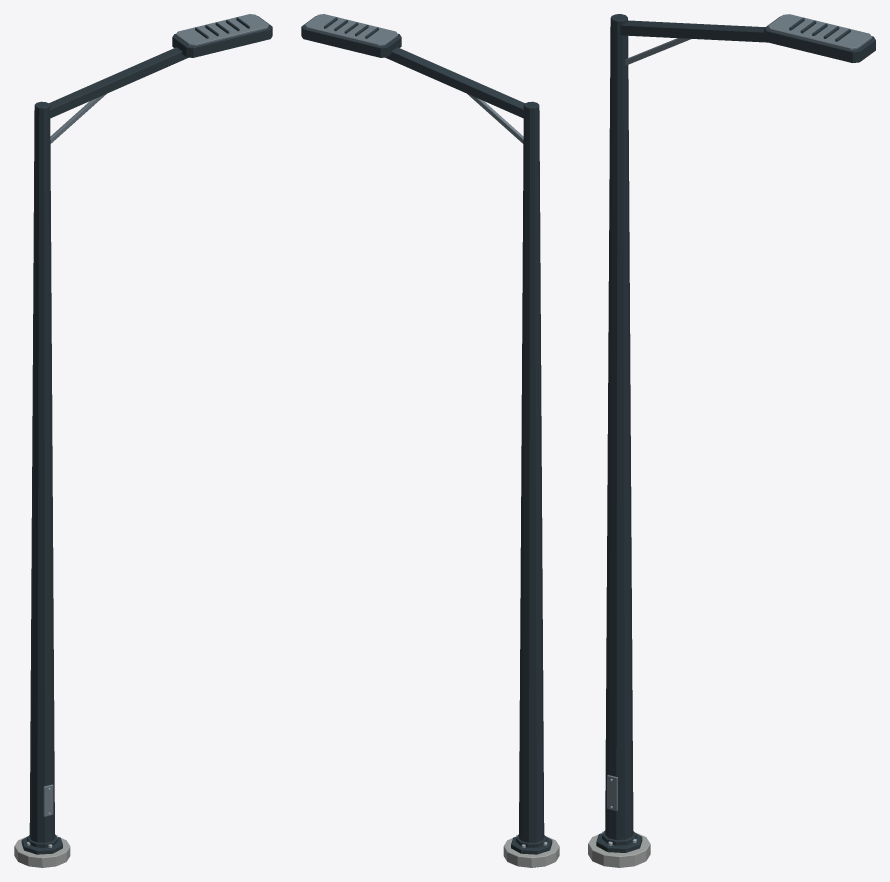
The model's file is b18_flat_led_roadway_lamp.glb.
3 renders of one model, left to right at view 1: azimuth 30°, elevation 25°; view 2: azimuth 150°, elevation 25°; view 3: azimuth 330°, elevation 25°, orthographic. The views are drawn at different scales.
Parts seen in each view (by area): view 1: b18_flat_led_roadway_lamp; view 2: b18_flat_led_roadway_lamp; view 3: b18_flat_led_roadway_lamp.
Boxes of the visible parts, x1=… form: b18_flat_led_roadway_lamp: x1=14, y1=14, x2=272, y2=867; b18_flat_led_roadway_lamp: x1=301, y1=14, x2=559, y2=867; b18_flat_led_roadway_lamp: x1=588, y1=14, x2=875, y2=867.
Bounding box in the file's own units: 2.24 × 6.79 × 0.44.
